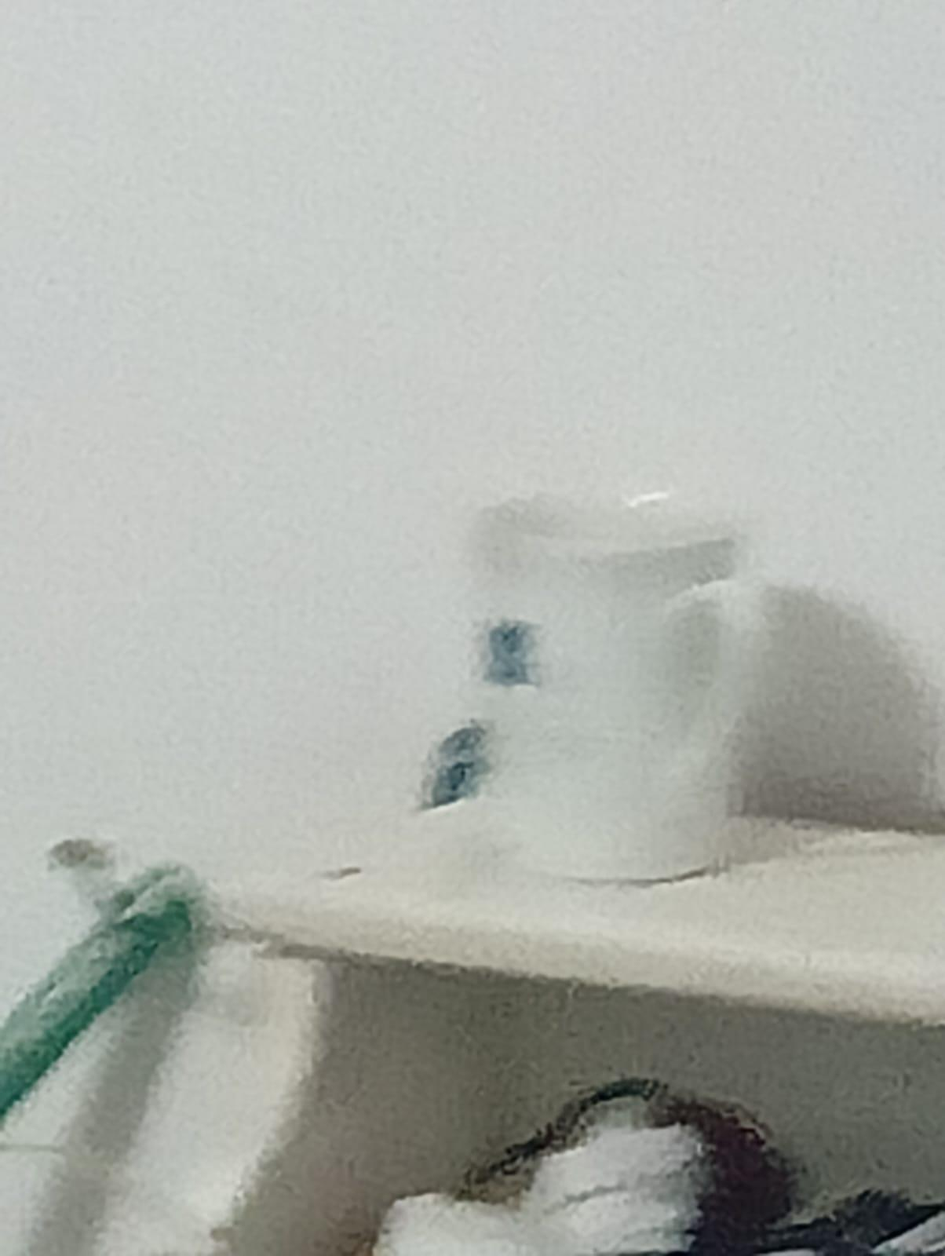cup: (473, 495, 757, 881)
